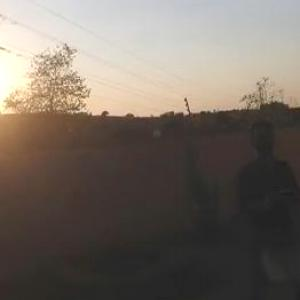follow: (224, 114, 300, 299)
